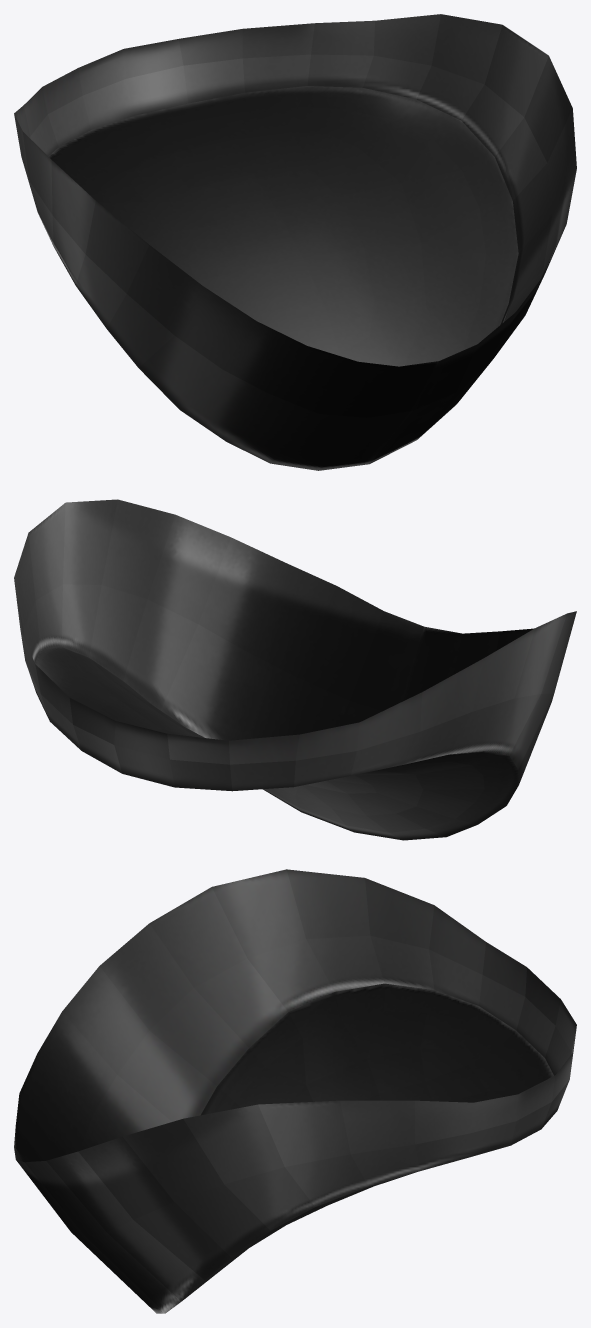
The model's file is YVR_d3_right_trigger.obj.
3 renders of one model, top to bottom at view 1: azimuth 30°, elevation 25°; view 2: azimuth 150°, elevation 25°; view 3: azimuth 270°, elevation 25°, orthographic.
Parts seen in each view (by area): view 1: yvr_d3_right_trigger; view 2: yvr_d3_right_trigger; view 3: yvr_d3_right_trigger.
Part boxes in pixels (left/top/right/bottom): yvr_d3_right_trigger: left=14, top=14, right=576, bottom=470; yvr_d3_right_trigger: left=14, top=499, right=576, bottom=840; yvr_d3_right_trigger: left=14, top=869, right=576, bottom=1313.
Size of the model in its own units: 0.0308 by 0.0192 by 0.0316.
Materials: 1 (1 with a texture image).
